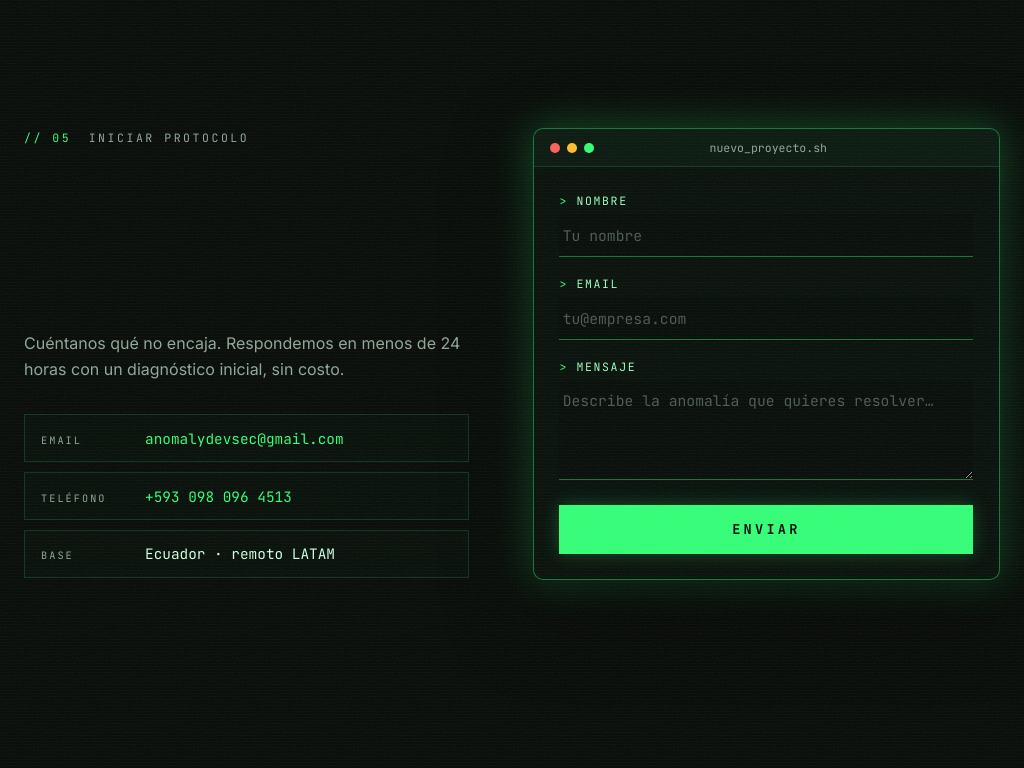
Test: Contact › shows the server-provided error when the API rejects the payload
The image size is (1024, 768).
Type "Ana" into the field labelled "Nombre" at coordinates (766, 236), box [560,214,973,257]
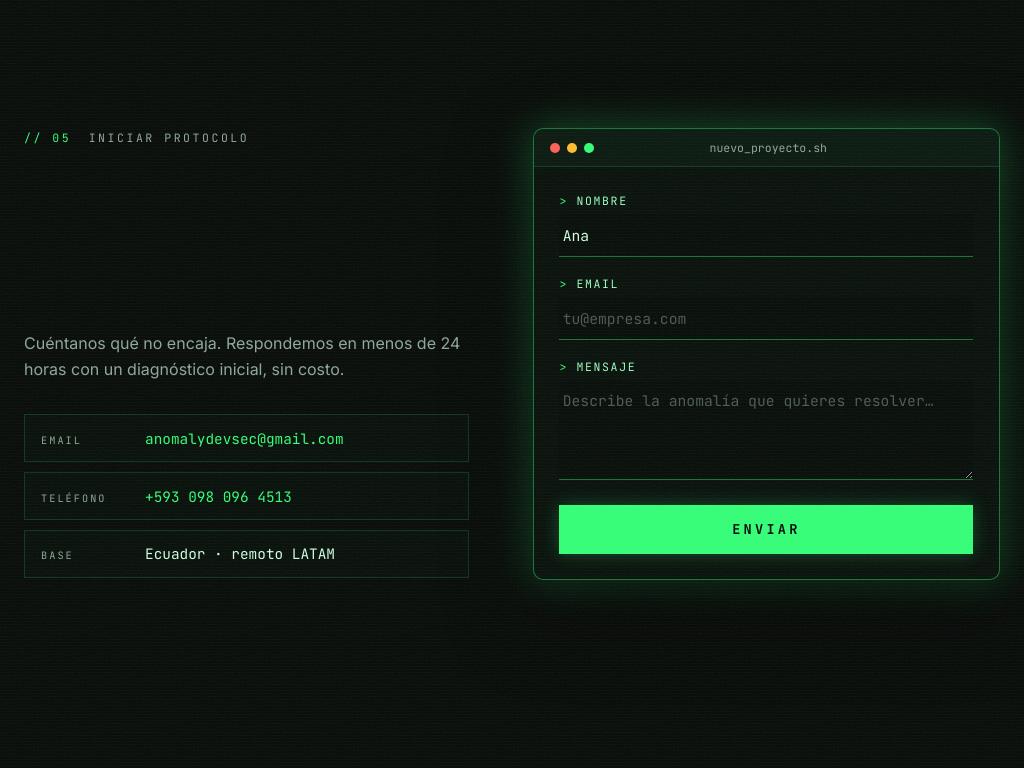
Type "ana@example.com" into the field labelled "Email" at coordinates (766, 318), box [560,297,973,340]
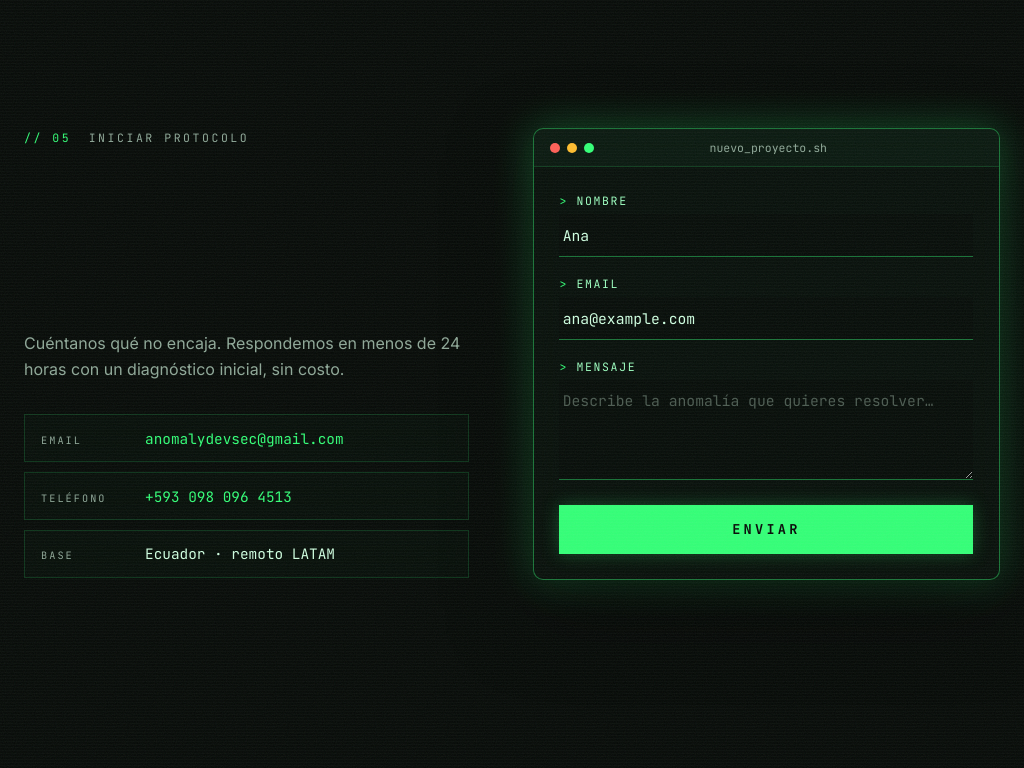
Type "Hola, quiero cotizar un proyecto." into the text box labelled "Mensaje" at coordinates (766, 430), box [560,380,973,480]
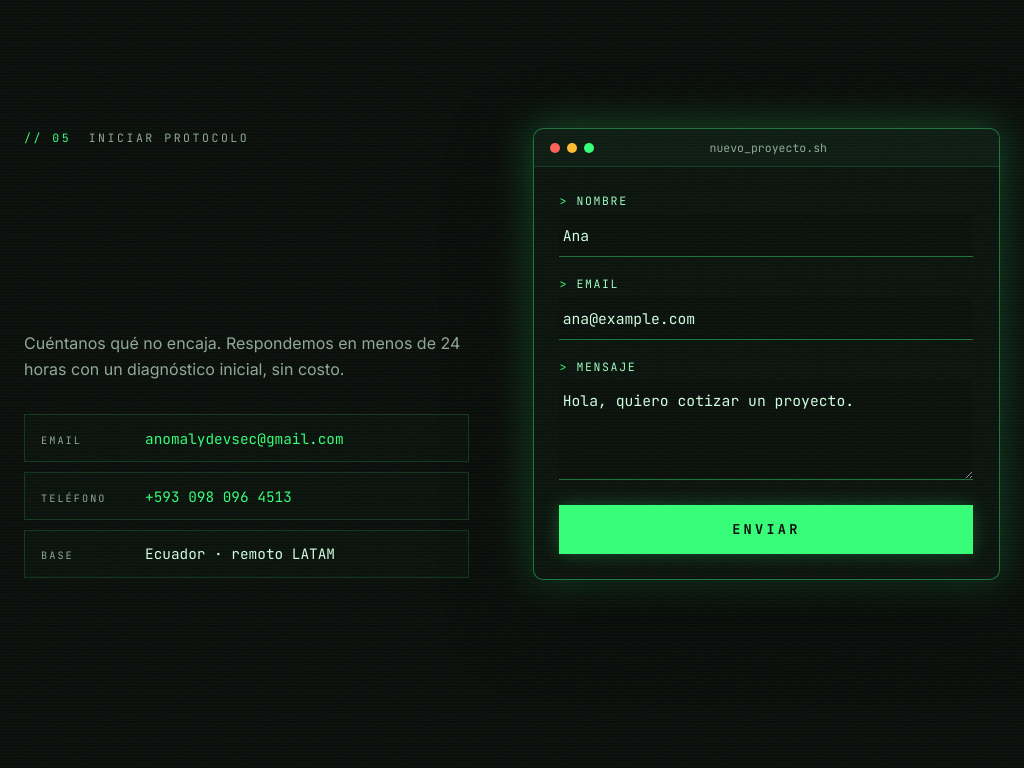
Click the button "Enviar" at coordinates (766, 529), box [560,505,973,554]
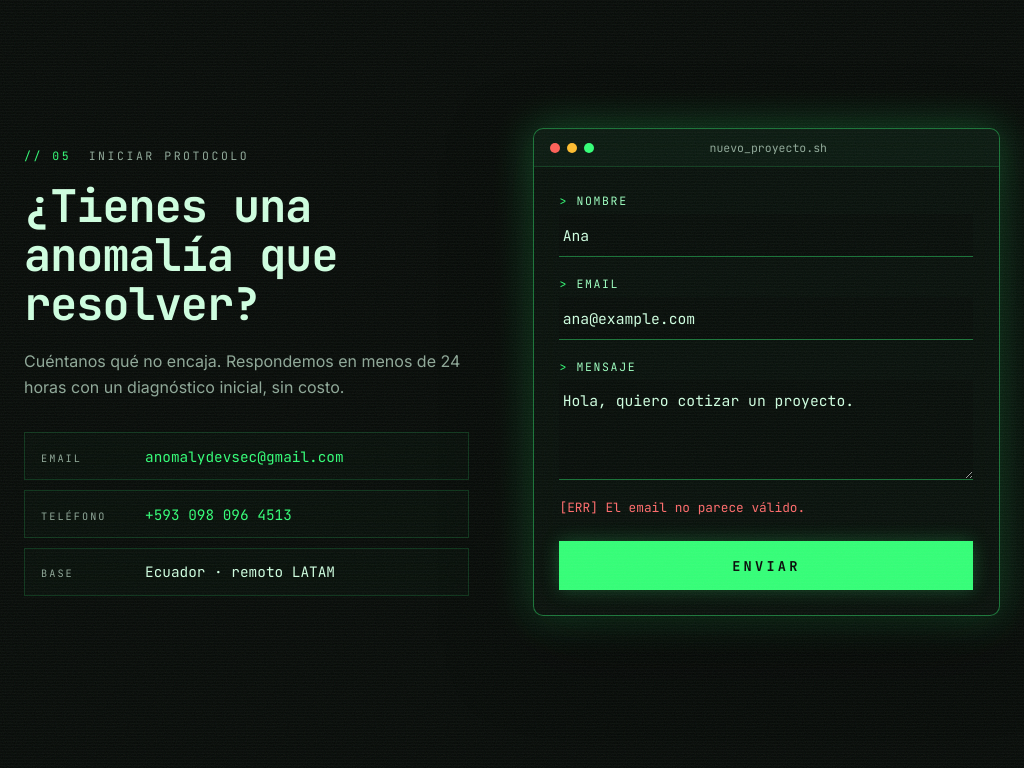
Result: the text "El email no parece válido." is shown at [606,499,805,516]
